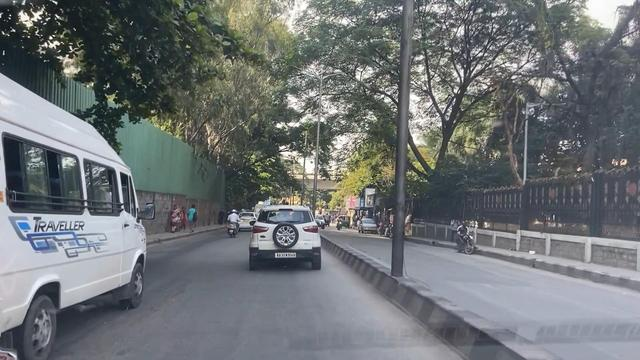HMV: (0, 74, 154, 341)
LMV: (258, 209, 320, 271)
